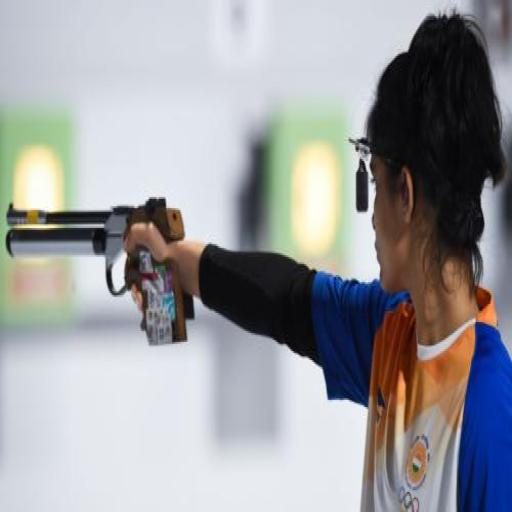shooting: (122, 7, 511, 510)
